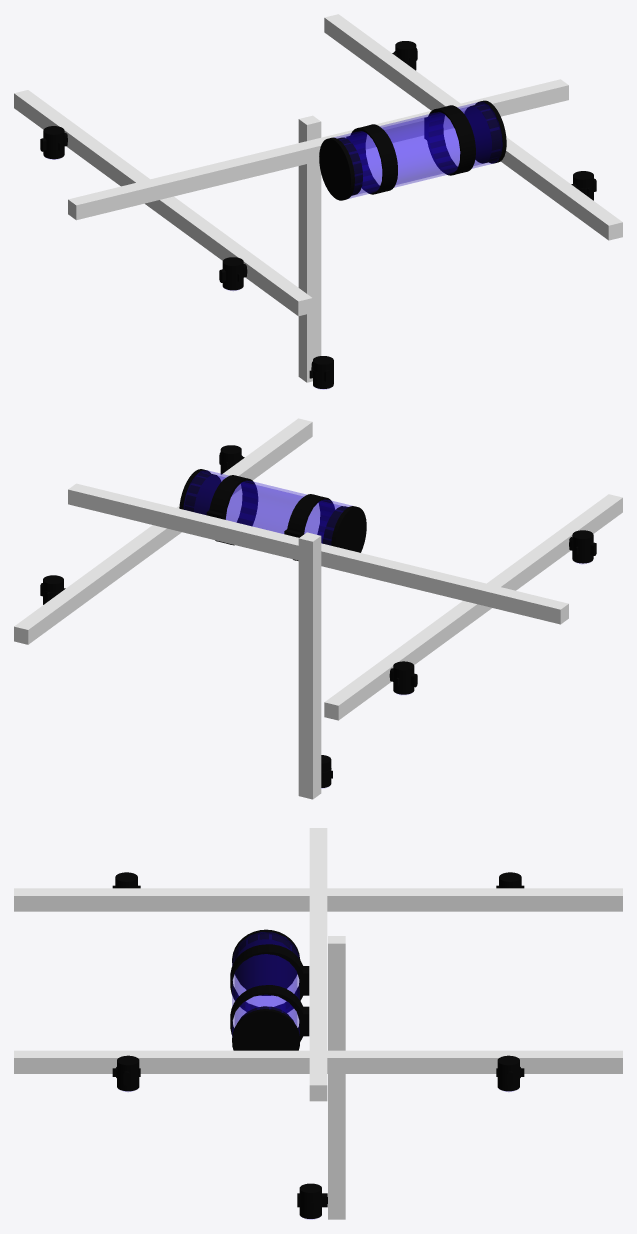
The model's file is docking_station.dae.
3 views of the same model, one above another, from view 1: azimuth 30°, elevation 25°; view 2: azimuth 150°, elevation 25°; view 3: azimuth 270°, elevation 25° (orthographic). The views are drawn at different scales.
Visible parts, largest first — view 1: Extrusion (×7), Brep (×5); view 2: Extrusion (×6), Brep (×5); view 3: Extrusion (×7), Brep (×5).
Part boxes in pixels (x1,y1,x2,y2): Extrusion (×7): (14, 14, 622, 388); Brep (×5): (319, 100, 506, 200); Extrusion (×6): (14, 418, 622, 799); Brep (×5): (179, 469, 366, 560); Extrusion (×7): (14, 828, 622, 1219); Brep (×5): (230, 929, 309, 1050).
Bounding box in the file's own units: 1 × 1 × 0.5174.
